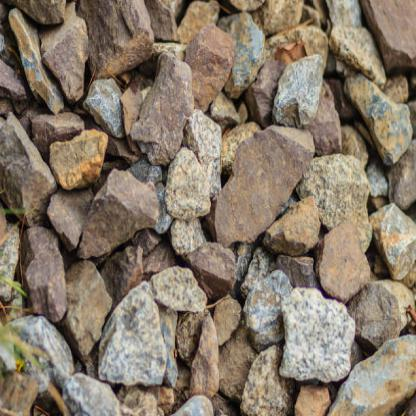Sedimentary_Limestone: (208, 122, 309, 253), (120, 48, 193, 170), (80, 164, 160, 267), (341, 62, 411, 173), (99, 276, 169, 379), (278, 286, 350, 385), (328, 335, 414, 409), (266, 38, 324, 142), (318, 207, 379, 304), (322, 4, 390, 89), (19, 210, 67, 327), (48, 122, 113, 198), (175, 298, 220, 404), (36, 16, 90, 102), (374, 192, 414, 296), (356, 279, 416, 346), (163, 143, 212, 223)
